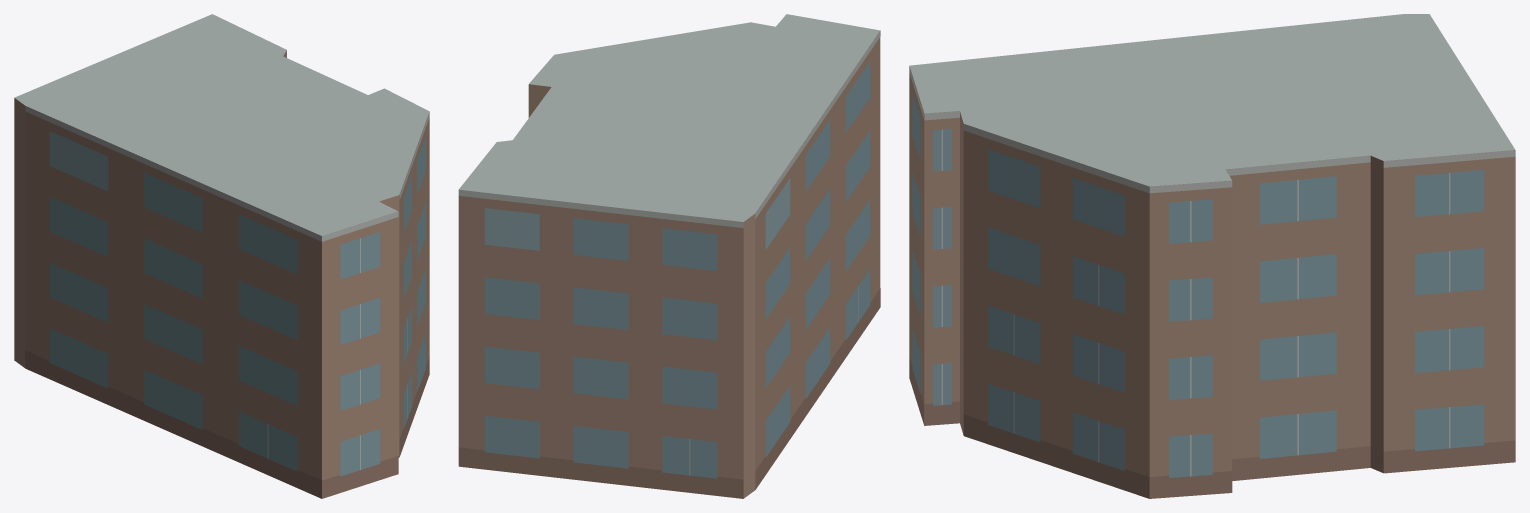
The model's file is survey-upis-33046403.glb.
3 renders of one model, left to right at view 1: azimuth 30°, elevation 25°; view 2: azimuth 150°, elevation 25°; view 3: azimuth 270°, elevation 25°, orthographic. The views are drawn at different scales.
Parts seen in each view (by area): view 1: survey-upis-33046403.tmp; view 2: survey-upis-33046403.tmp; view 3: survey-upis-33046403.tmp.
Part boxes in pixels (x1,y1,x2,y2): survey-upis-33046403.tmp: (14, 14, 429, 498); survey-upis-33046403.tmp: (458, 14, 880, 498); survey-upis-33046403.tmp: (909, 14, 1515, 498).
Size of the model in its own units: 13.28 by 11.2 by 19.71.
